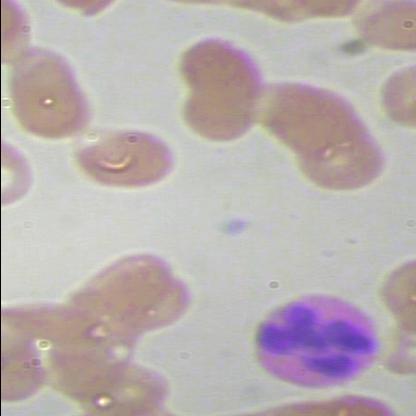Platelets: (220, 212, 254, 246)
RBC: (12, 42, 92, 146), (285, 126, 391, 197), (74, 124, 180, 194), (178, 35, 268, 108), (177, 86, 267, 145)
WBC: (240, 276, 388, 398)
